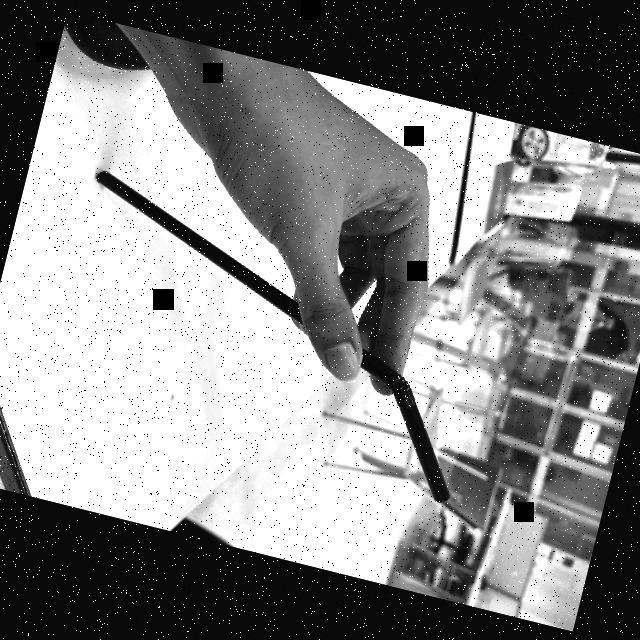straw: (38, 168, 512, 510)
